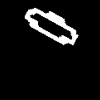chain: (25, 8, 77, 44)
